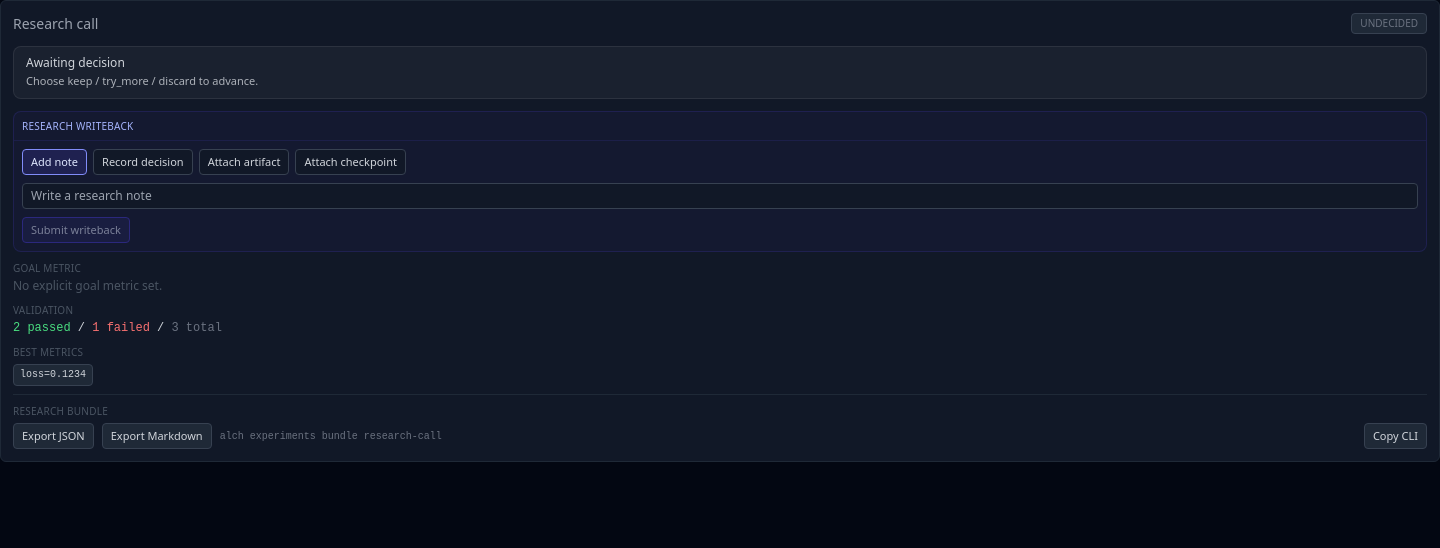
ExperimentResearchCallCard › submits a canonical try_more decision via research writeback
Click the button "Record decision" at (143, 162), box [93,148,193,174]
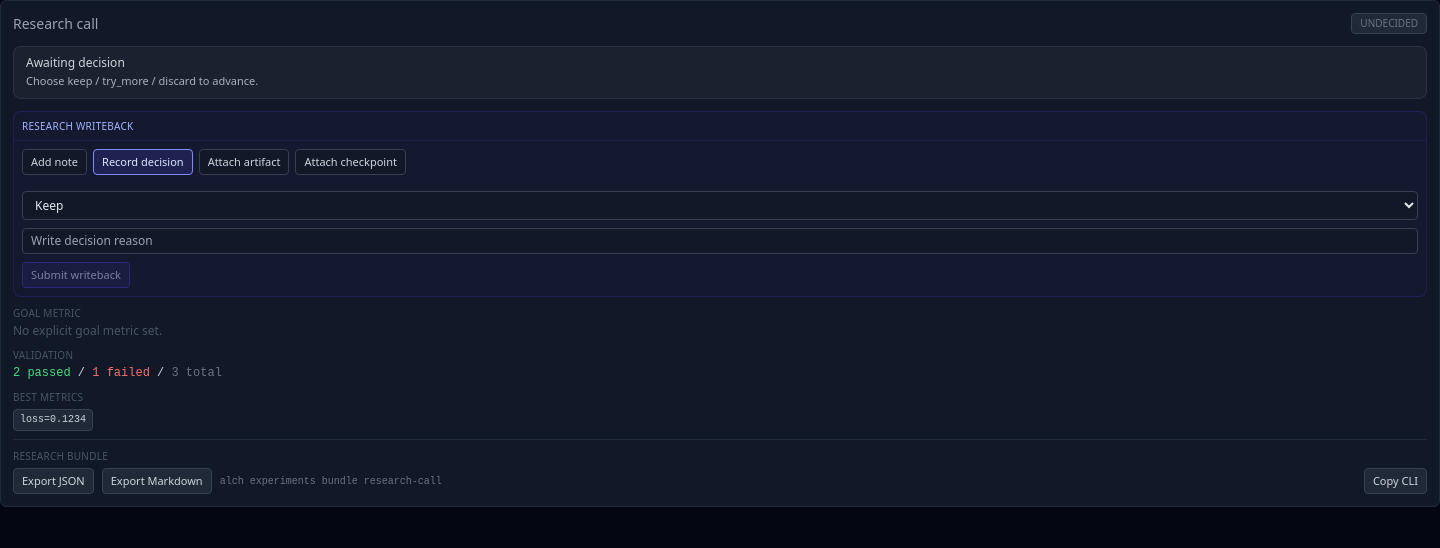
Check: the button "Submit writeback" is disabled, box [22,262,130,288]
Select "Try more" in the dropdown named "Decision" at (720, 205), box [22,190,1418,220]
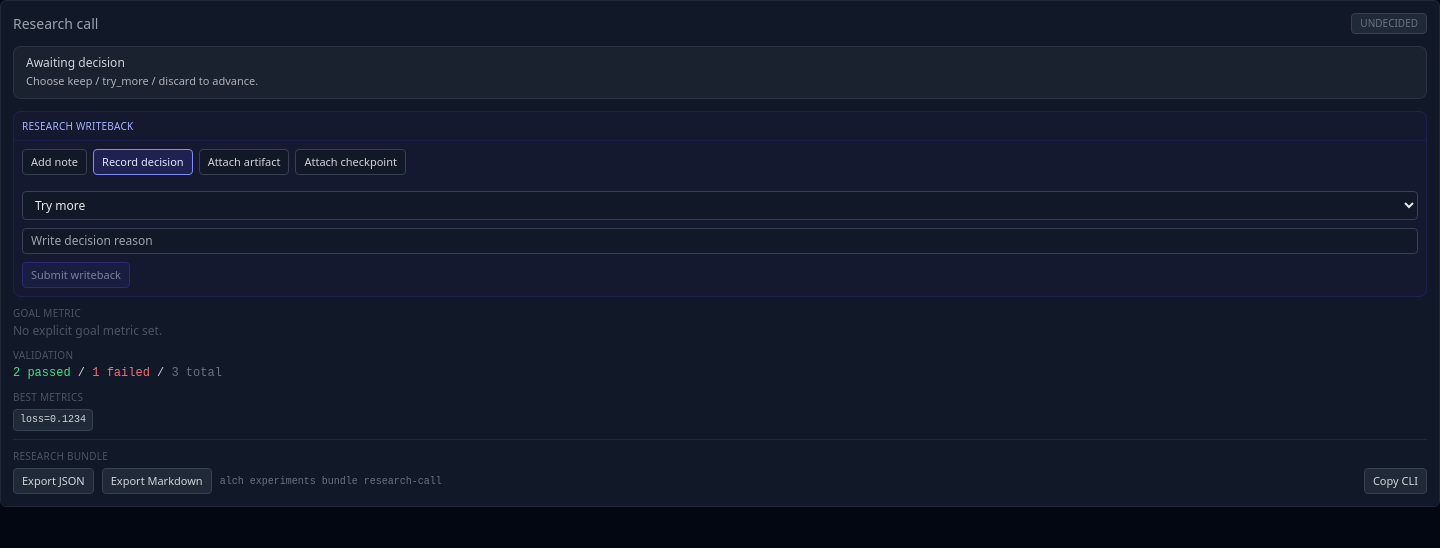
Type "Need stronger evidence from second run" into the field with placeholder "Write decision reason" at (720, 240), box [22,228,1418,254]
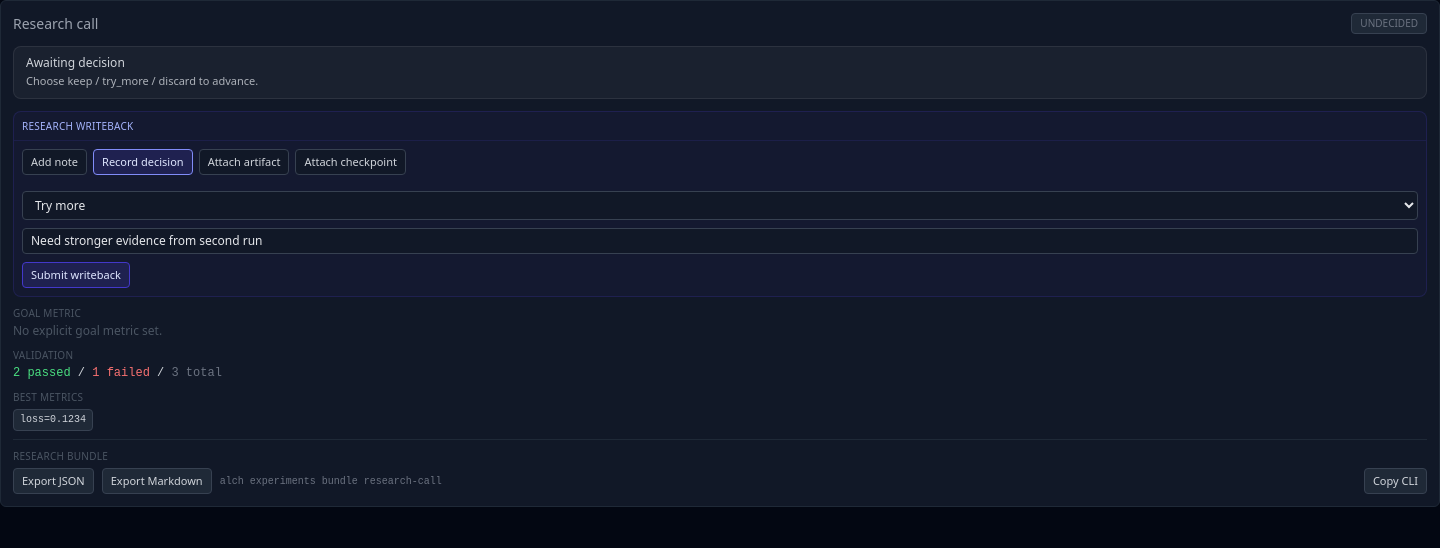
Click the button "Submit writeback" at (76, 274), box [22,262,130,288]
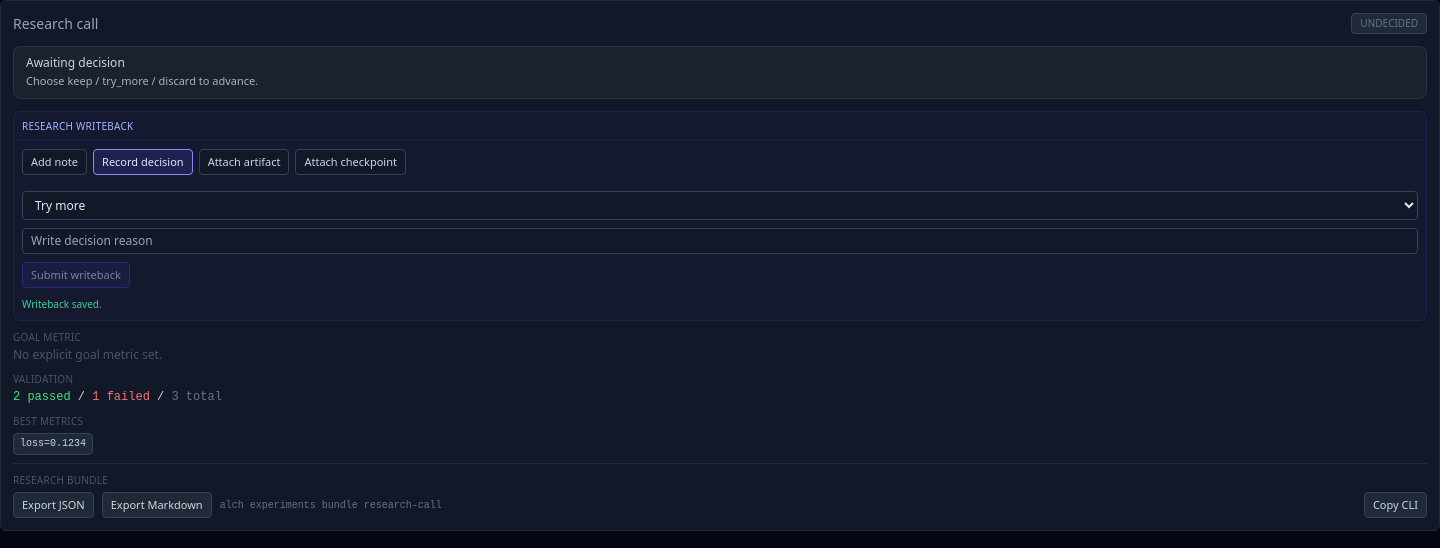
Check: the text "Writeback saved." is shown, box [22,296,102,310]
